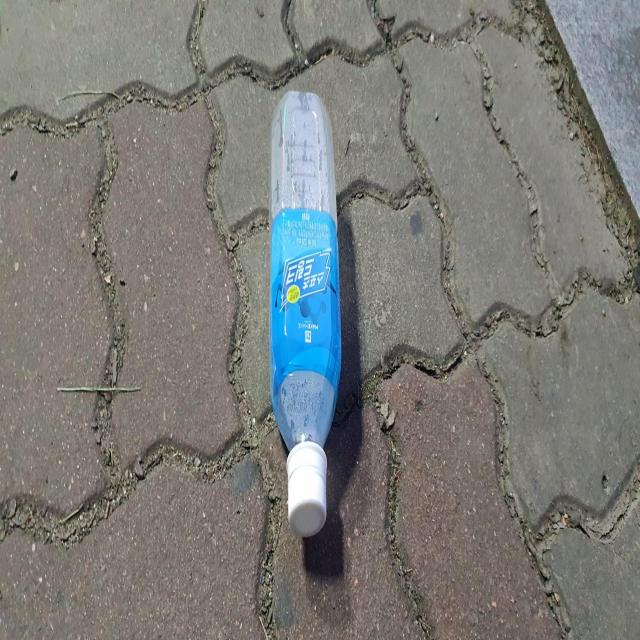plastic: (269, 89, 341, 537)
